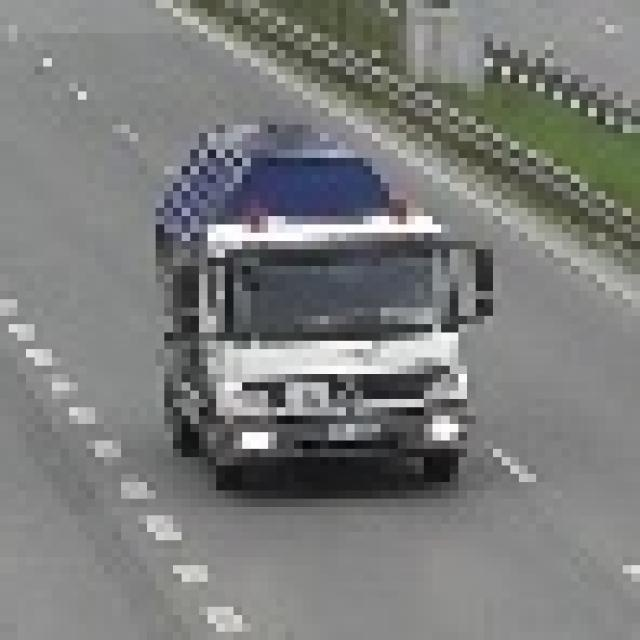truck: (142, 86, 515, 546)
